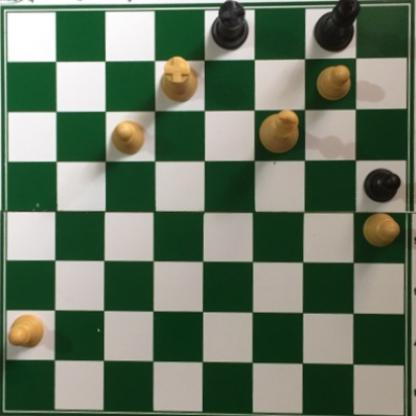black-king: (311, 0, 359, 56)
black-pawn: (361, 166, 402, 203)
black-rook: (211, 0, 250, 53)
white-king: (256, 108, 301, 157)
white-pawn: (360, 211, 401, 249), (6, 313, 46, 351), (315, 63, 351, 102), (109, 119, 146, 156)
white-rook: (158, 56, 199, 104)
